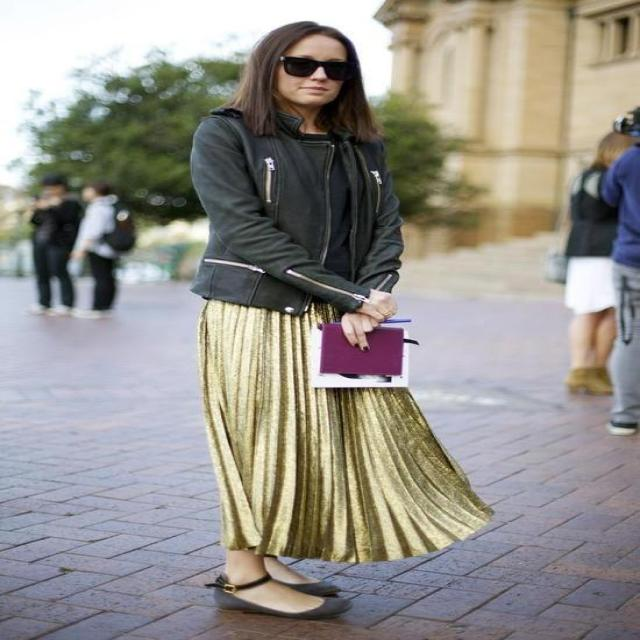skirt: (200, 289, 492, 564)
sweater: (192, 104, 404, 320)
